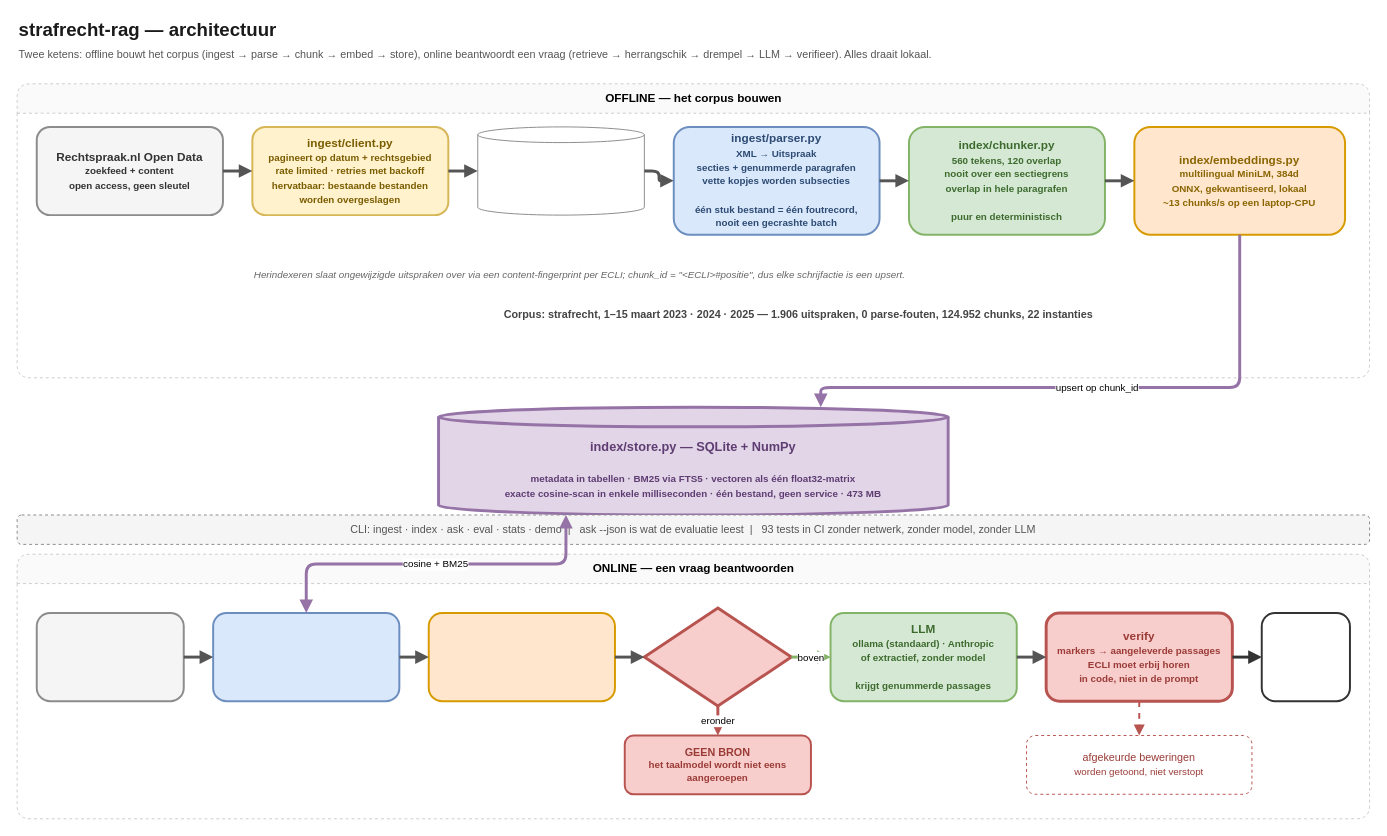
This 1387x836 diagram has some shape labels left out. Each missing label, with the centre of its shape:
Antwoord beweringen + verwijzingen: point (1305, 657)
cross-encoder herrangschikt de top-12 gekalibreerde relevantie 0–1: point (521, 657)
data/raw/<ECLI>.xml 1.906 uitspraken niet in git: point (560, 170)
drempel 0,35: point (717, 656)
retriever cosine top-3k ⊕ BM25 top-3k samengevoegd met RRF: point (306, 657)
vraag + filters: instantietype, instantie, datumbereik: point (109, 657)
